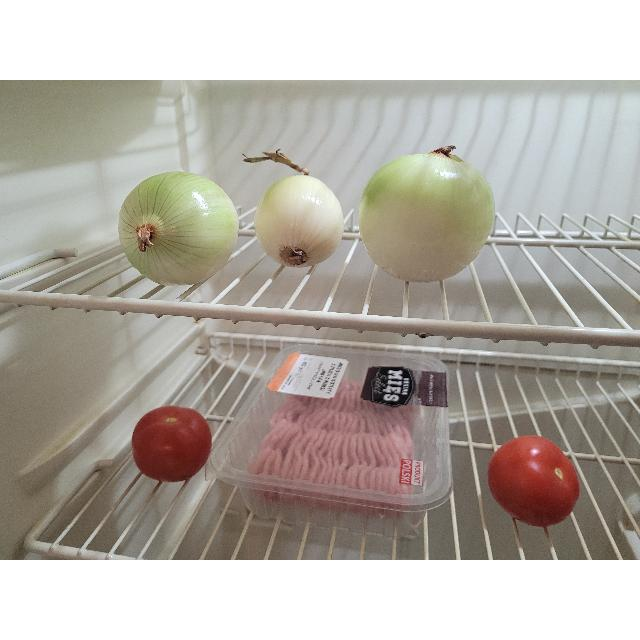meat: (248, 380, 414, 514)
onion: (360, 147, 490, 283), (120, 170, 240, 286), (253, 172, 344, 270)
tomato: (487, 436, 581, 528), (132, 406, 212, 482)
